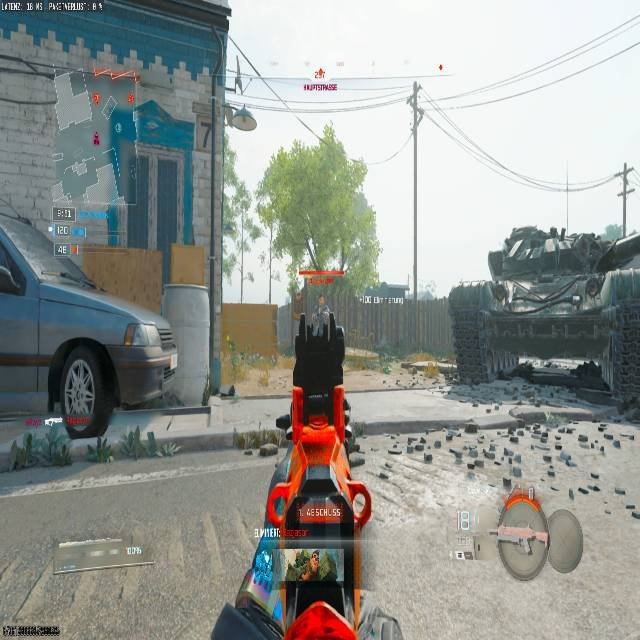head: (317, 294, 326, 307)
player: (313, 294, 332, 335)
